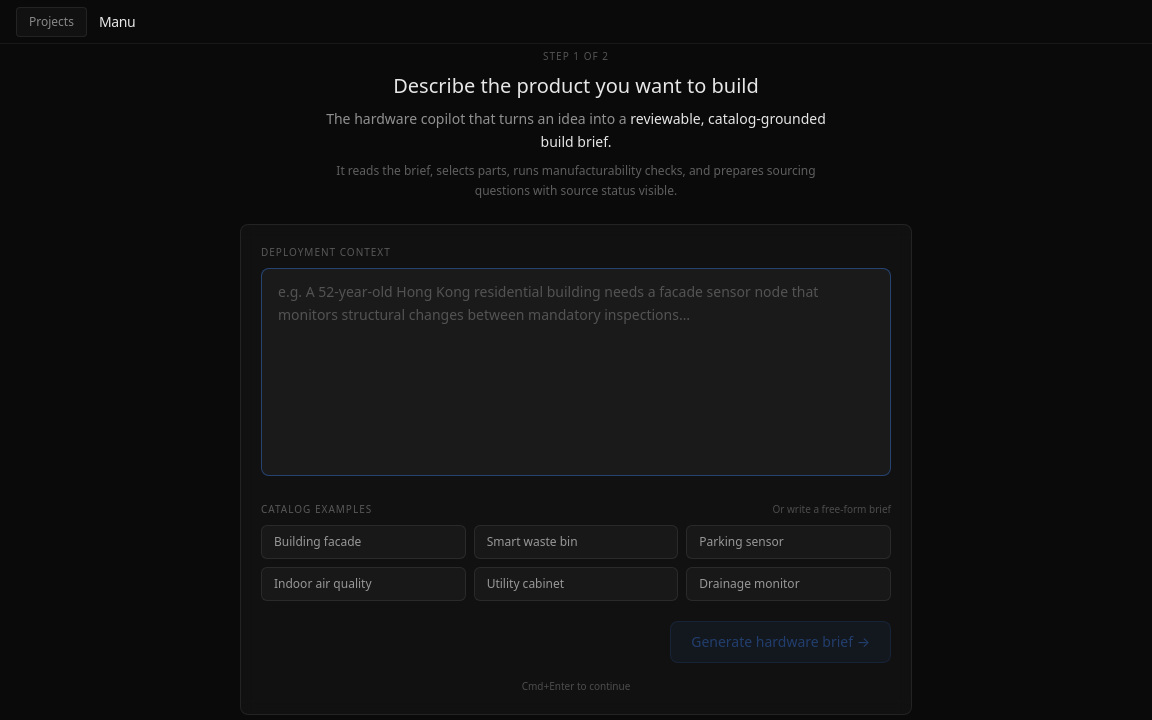
it: ContextEntryForm › fills the prompt from a catalog example while keeping free-form generation available
Click the button "Smart waste bin" at (576, 542), box x1=474 y1=525 x2=678 y2=559
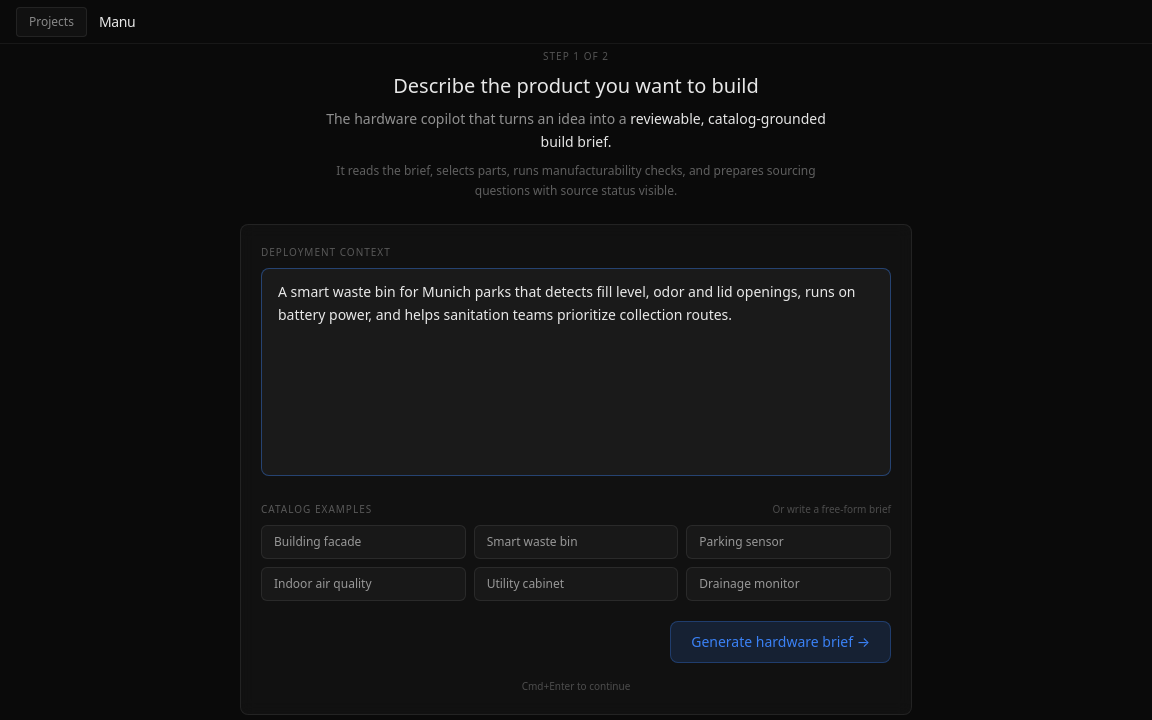
Expected: the text box labelled "Deployment context" holds "A smart waste bin for Munich parks that detects fill level, odor and lid openings, runs on battery power, and helps sanitation teams prioritize collection route", x1=261 y1=268 x2=891 y2=476
Expected: the button "Generate hardware brief →" is enabled, x1=670 y1=621 x2=891 y2=663
